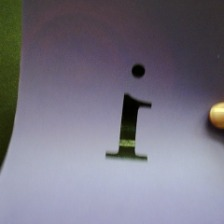violet1: (98, 59, 160, 165)
